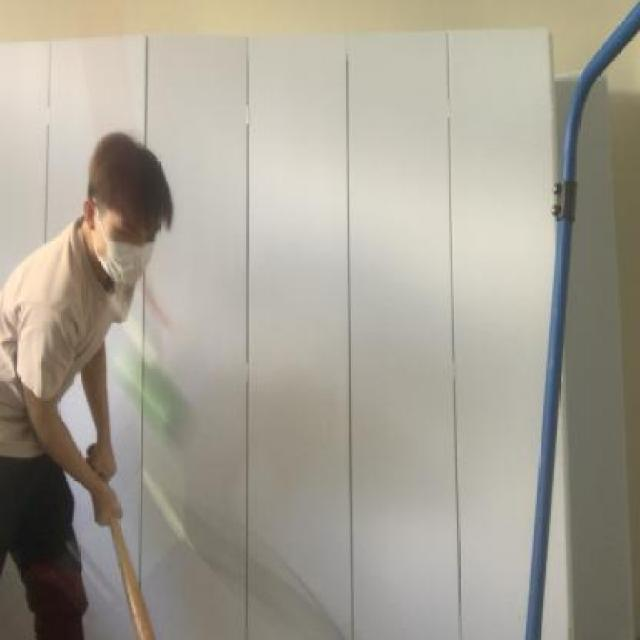baseball: (133, 358, 193, 462)
